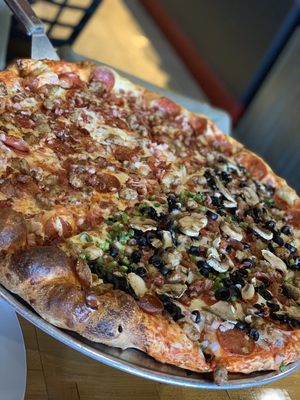sandwich: (0, 55, 299, 393)
